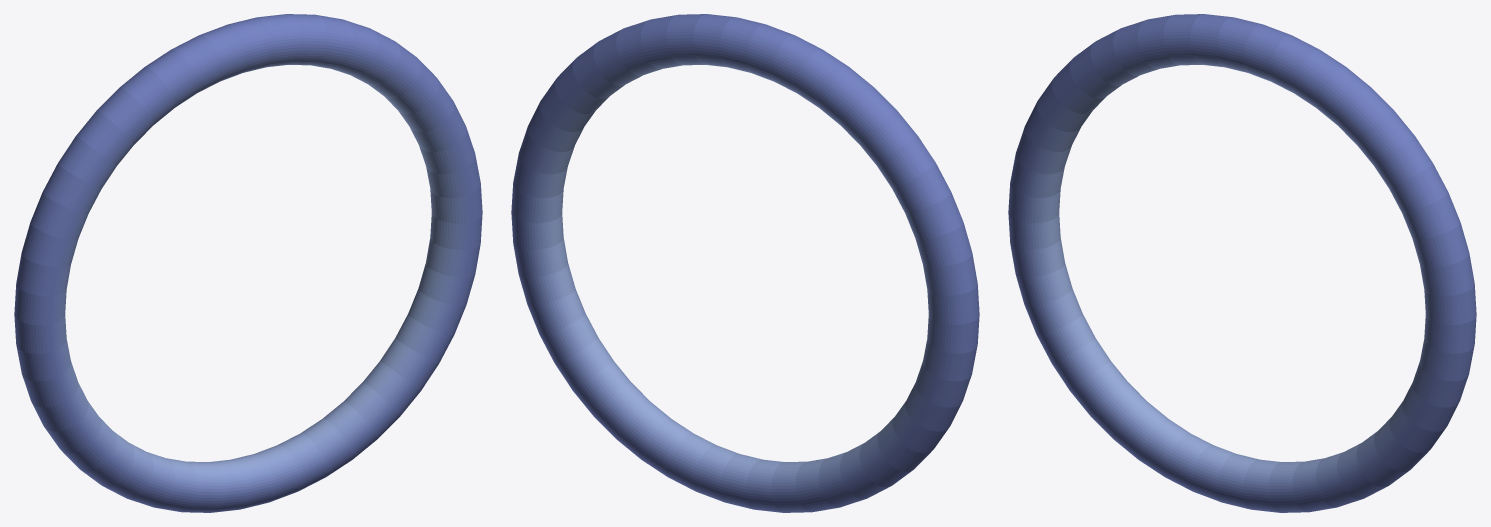
3 views of the same model, side by side, from view 1: azimuth 30°, elevation 25°; view 2: azimuth 150°, elevation 25°; view 3: azimuth 330°, elevation 25° (orthographic).
Parts seen in each view (by area): view 1: world; view 2: world; view 3: world.
Part boxes in pixels (x1,y1,x2,y2): world: (14, 14, 482, 512); world: (511, 14, 979, 512); world: (1008, 14, 1476, 512).
Bounding box in the file's own units: 26.53 × 26.48 × 2.53.
